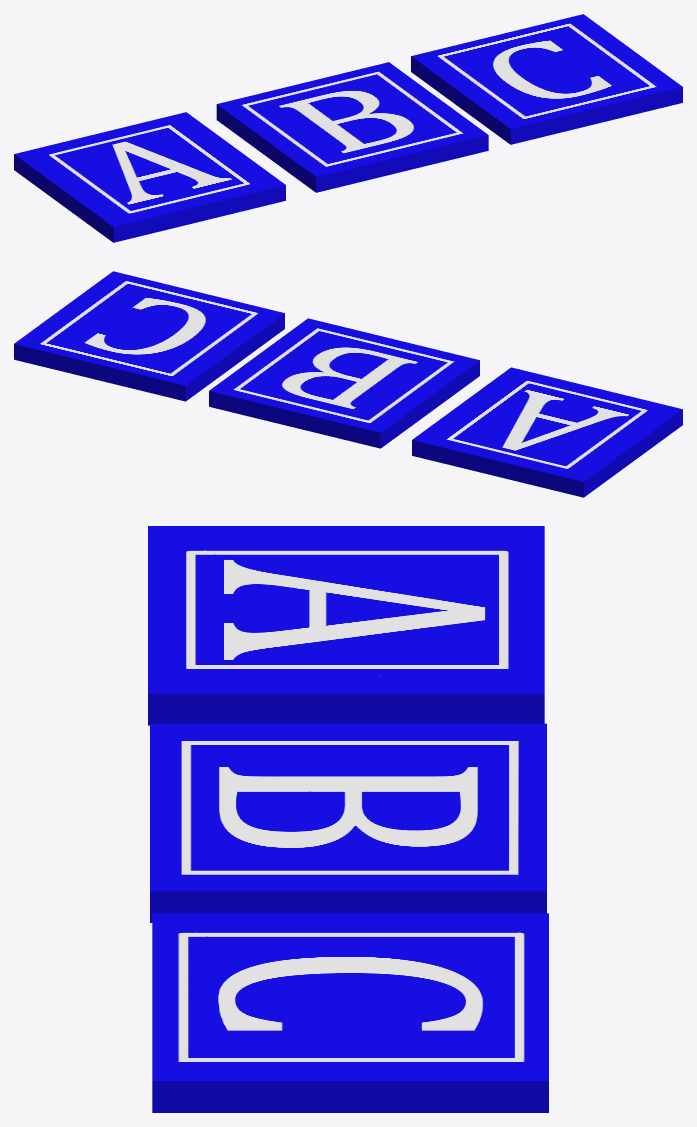
The model's file is BuildingBoards.fbx.
3 views of the same model, one above another, from view 1: azimuth 30°, elevation 25°; view 2: azimuth 150°, elevation 25°; view 3: azimuth 270°, elevation 25° (orthographic). The views are drawn at different scales.
Visible parts, largest first — view 1: B board, A board, C board; view 2: A board, C board, B board; view 3: C board, A board, B board.
Part boxes in pixels (x1,y1,x2,y2): B board: (216,62,488,192); A board: (14,112,285,242); C board: (411,14,682,144); A board: (412,367,682,497); C board: (14,271,284,401); B board: (209,318,479,448); C board: (152,913,548,1112); A board: (148,526,544,725); B board: (150,723,546,922).
Bounding box in the file's own units: 662 × 17.68 × 202.
